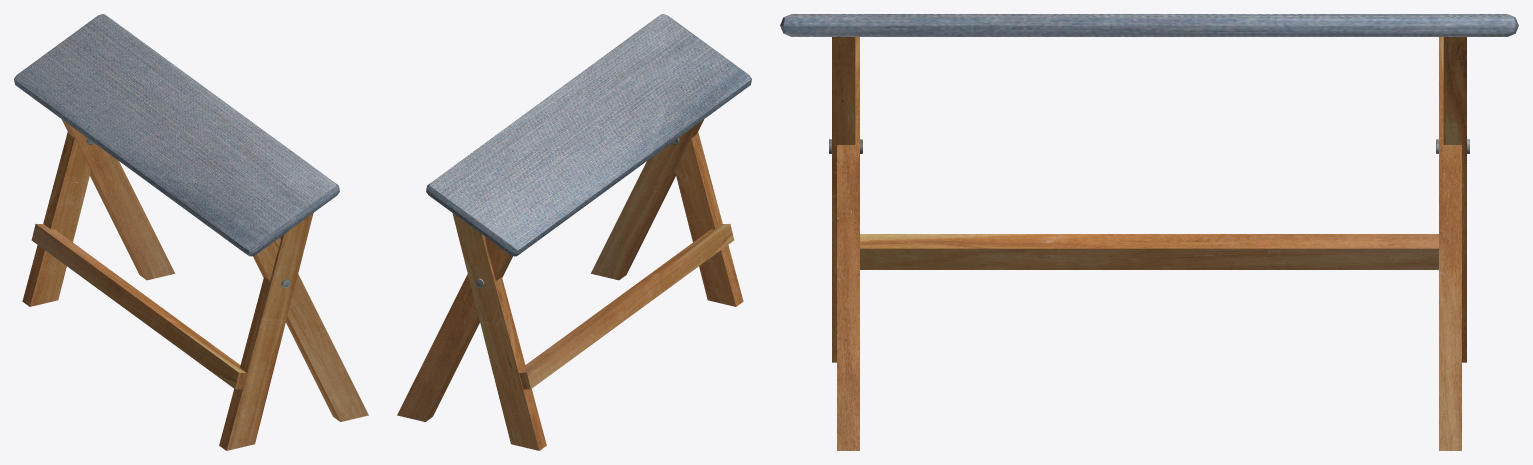
The model's file is RazvanBench.fbx.
The picture shows the model from 3 angles, left to right: view 1: azimuth 30°, elevation 25°; view 2: azimuth 150°, elevation 25°; view 3: azimuth 270°, elevation 25°; orthographic projection. The views are drawn at different scales.
Parts seen in each view (by area): view 1: Seat, FrontLegs, BackLegs, LegBrace; view 2: Seat, FrontLegs, BackLegs, LegBrace; view 3: LegBrace, Seat, BackLegs, FrontLegs.
Part boxes in pixels (x1,y1,x2,y2): Seat: (14,14,339,256); FrontLegs: (22,132,313,450); BackLegs: (62,119,368,421); LegBrace: (31,224,246,389); Seat: (426,14,751,256); FrontLegs: (452,132,743,450); BackLegs: (397,119,703,421); LegBrace: (519,224,734,389); LegBrace: (860,234,1438,269); Seat: (780,14,1518,36); BackLegs: (837,37,1461,450); FrontLegs: (832,37,1466,362).
Bounding box in the file's own units: 55.99 × 94.8 × 160.
